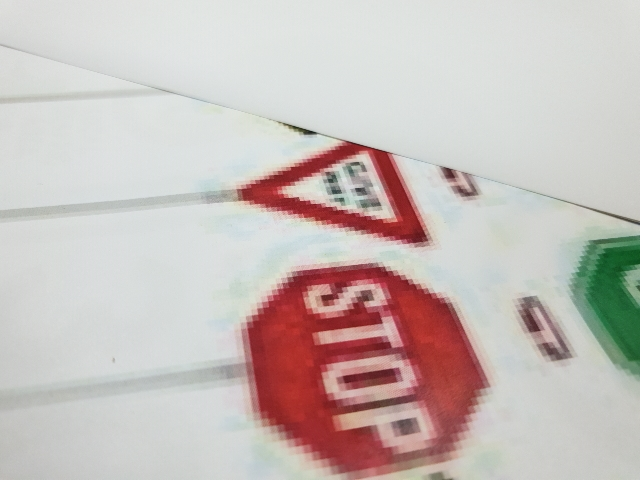giveway: (253, 142, 437, 239)
stop: (242, 272, 488, 465)
